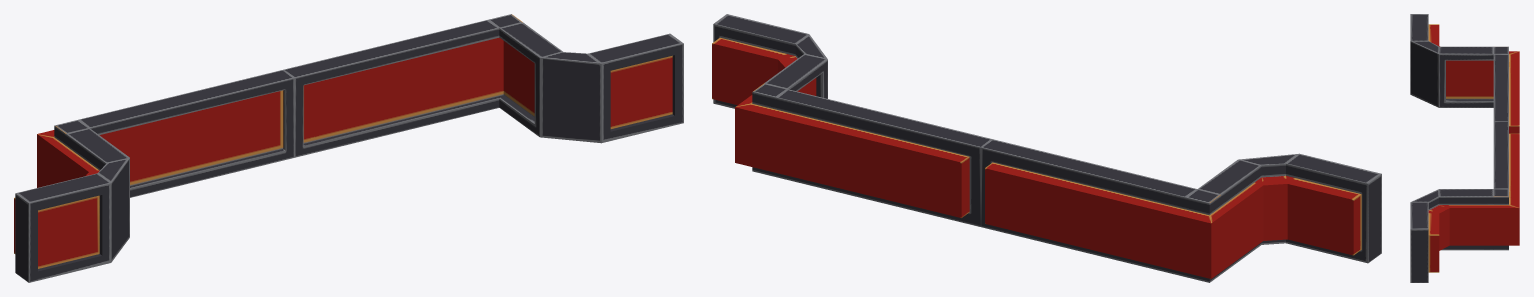
Rendered from Counter.fbx.
3 renders of one model, left to right at view 1: azimuth 30°, elevation 25°; view 2: azimuth 150°, elevation 25°; view 3: azimuth 270°, elevation 25°, orthographic. The views are drawn at different scales.
Visible parts, largest first — view 1: Counter; view 2: Counter; view 3: Counter.
Boxes of the visible parts, box(x1,y1,x2,y2) form: Counter: box(14, 14, 683, 282); Counter: box(712, 14, 1381, 282); Counter: box(1410, 14, 1519, 282).
Bounding box in the file's own units: 36.88 × 4.28 × 7.93.
1 material, 1 textured.
